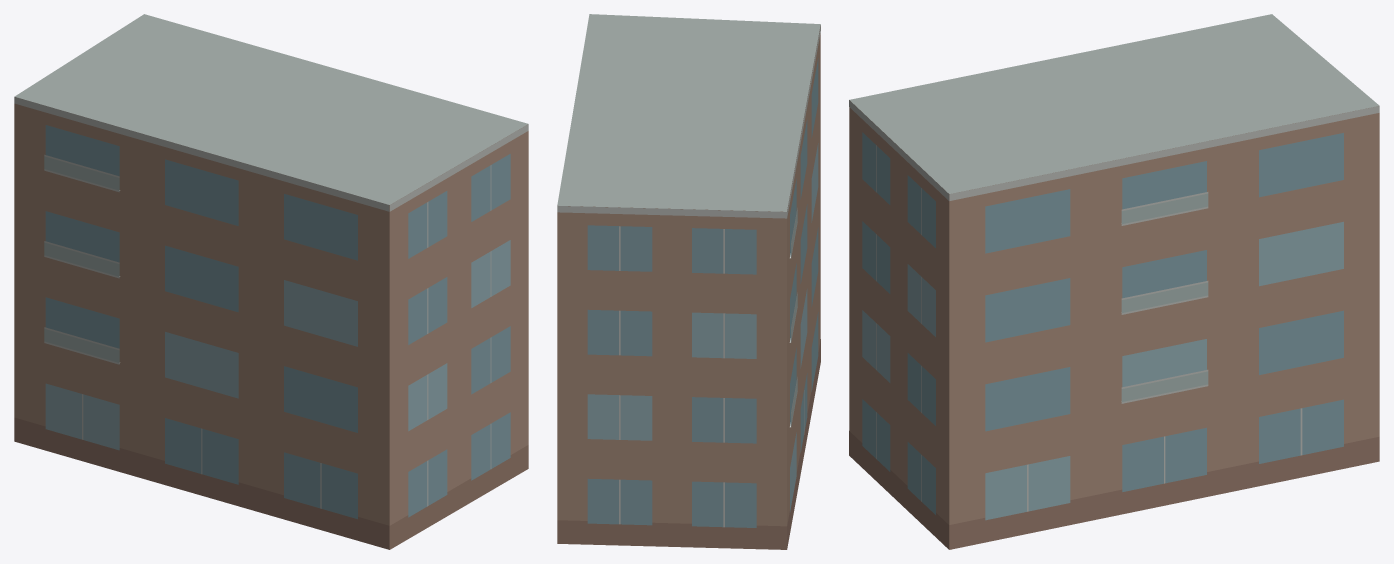
File: survey-upis-32726827.glb
The picture shows the model from 3 angles, left to right: view 1: azimuth 30°, elevation 25°; view 2: azimuth 150°, elevation 25°; view 3: azimuth 270°, elevation 25°; orthographic projection. The views are drawn at different scales.
Visible parts, largest first — view 1: survey-upis-32726827.tmp; view 2: survey-upis-32726827.tmp; view 3: survey-upis-32726827.tmp.
Part boxes in pixels (x1,y1,x2,y2): survey-upis-32726827.tmp: (14,14,528,549); survey-upis-32726827.tmp: (557,14,820,549); survey-upis-32726827.tmp: (849,14,1379,549).
Bounding box in the file's own units: 13.48 × 12.4 × 16.77.
